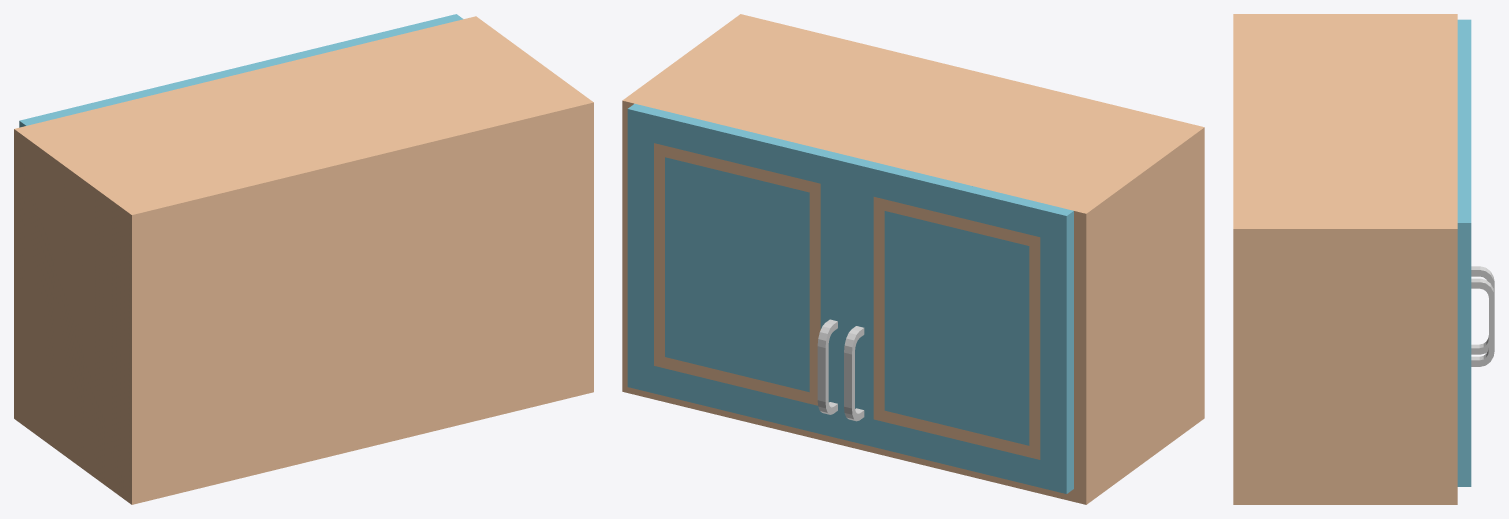
File: Cabinet Upper Unit 2.fbx
The picture shows the model from 3 angles, left to right: view 1: azimuth 30°, elevation 25°; view 2: azimuth 150°, elevation 25°; view 3: azimuth 270°, elevation 25°; orthographic projection. The views are drawn at different scales.
Visible parts, largest first — view 1: Cabinet Upper Unit 2, Cabinet Upper Unit 2 Door.R, Cabinet Upper Unit 2 Door.L; view 2: Cabinet Upper Unit 2, Cabinet Upper Unit 2 Door.R, Cabinet Upper Unit 2 Door.L; view 3: Cabinet Upper Unit 2, Cabinet Upper Unit 2 Door.L, Cabinet Upper Unit 2 Door.R.
Part boxes in pixels (box(x1,y1,x2,y2)): Cabinet Upper Unit 2: box(14, 16, 593, 504); Cabinet Upper Unit 2 Door.R: box(19, 67, 244, 127); Cabinet Upper Unit 2 Door.L: box(238, 14, 463, 72); Cabinet Upper Unit 2: box(622, 14, 1204, 504); Cabinet Upper Unit 2 Door.R: box(844, 157, 1073, 493); Cabinet Upper Unit 2 Door.L: box(627, 103, 853, 440); Cabinet Upper Unit 2: box(1233, 14, 1457, 504); Cabinet Upper Unit 2 Door.L: box(1457, 121, 1494, 486); Cabinet Upper Unit 2 Door.R: box(1457, 19, 1494, 354).
Size of the model in its own units: 0.8052 by 0.4826 by 0.4144.
